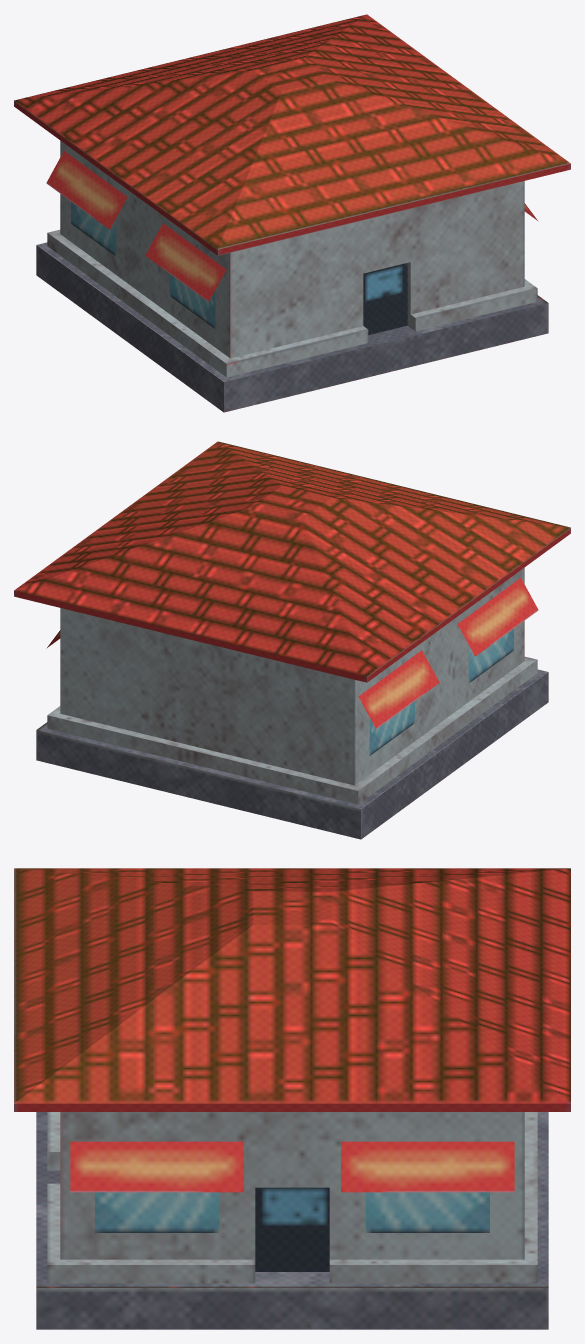
Rendered from housetype1.fbx.
The picture shows the model from 3 angles, top to bottom: view 1: azimuth 30°, elevation 25°; view 2: azimuth 150°, elevation 25°; view 3: azimuth 270°, elevation 25°; orthographic projection. The views are drawn at different scales.
Parts seen in each view (by area): view 1: Cube.003, Cube.002, Cube.009, Plane.002, Plane.001; view 2: Cube.003, Cube.002, Cube.009, Plane.002, Plane.001; view 3: Cube.003, Cube.002, Cube.009, Plane.002, Plane.001.
Part boxes in pixels (x1,y1,x2,y2): Cube.003: (14,14,570,255); Cube.002: (47,140,537,377); Cube.009: (36,242,548,412); Plane.002: (46,151,538,301); Plane.001: (71,201,215,328); Cube.003: (14,441,570,682); Cube.002: (47,567,537,804); Cube.009: (36,669,548,839); Plane.002: (46,578,538,728); Plane.001: (369,628,513,755); Cube.003: (14,868,570,1111); Cube.002: (47,1112,537,1283); Cube.009: (36,1112,548,1329); Plane.002: (70,1141,514,1192); Plane.001: (95,1192,489,1232).
Size of the model in its own units: 401 by 249 by 401.
